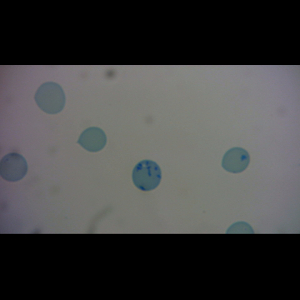aggregate reticulocyte: (131, 159, 163, 192)
erythrocyte: (32, 80, 66, 115), (76, 126, 108, 153), (221, 146, 251, 174)
punctate reticulocyte: (1, 152, 28, 182)
